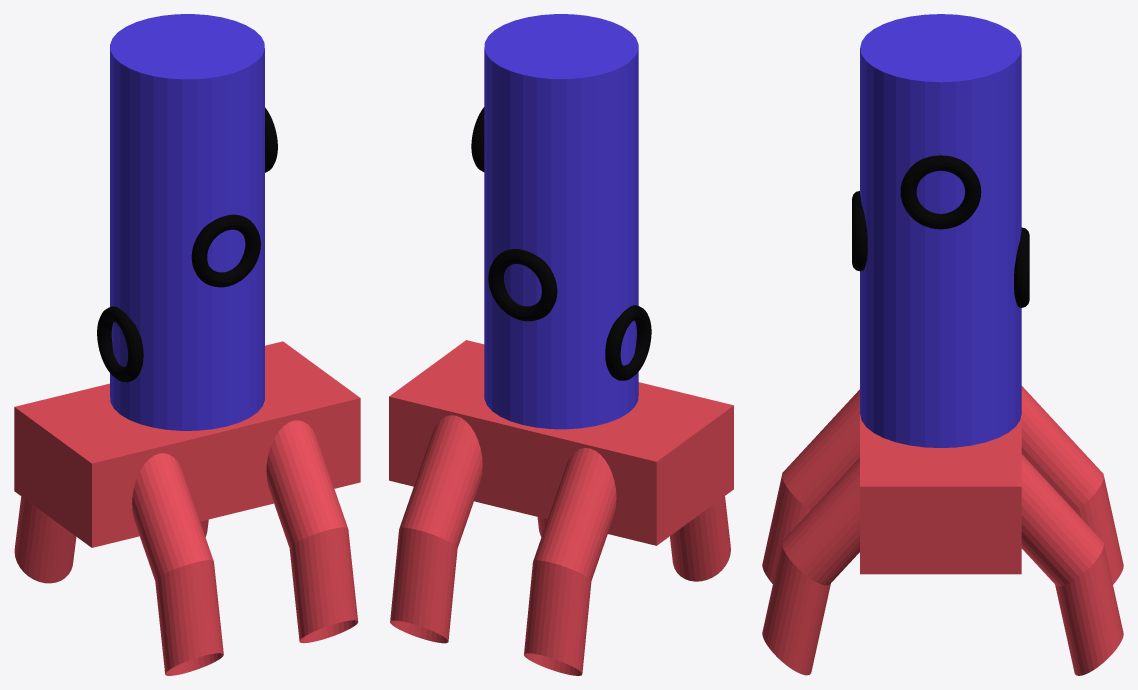
File: HardEnemyModel.dae
The picture shows the model from 3 angles, left to right: view 1: azimuth 30°, elevation 25°; view 2: azimuth 150°, elevation 25°; view 3: azimuth 270°, elevation 25°; orthographic projection. The views are drawn at different scales.
Parts seen in each view (by area): view 1: Cylinder.001; view 2: Cylinder.001; view 3: Cylinder.001.
Boxes of the visible parts, x1,y1,x2,y2 form: Cylinder.001: (14,14,360,675); Cylinder.001: (389,14,733,675); Cylinder.001: (762,14,1123,675).
Size of the model in its own units: 2 by 2.24 by 4.03.
